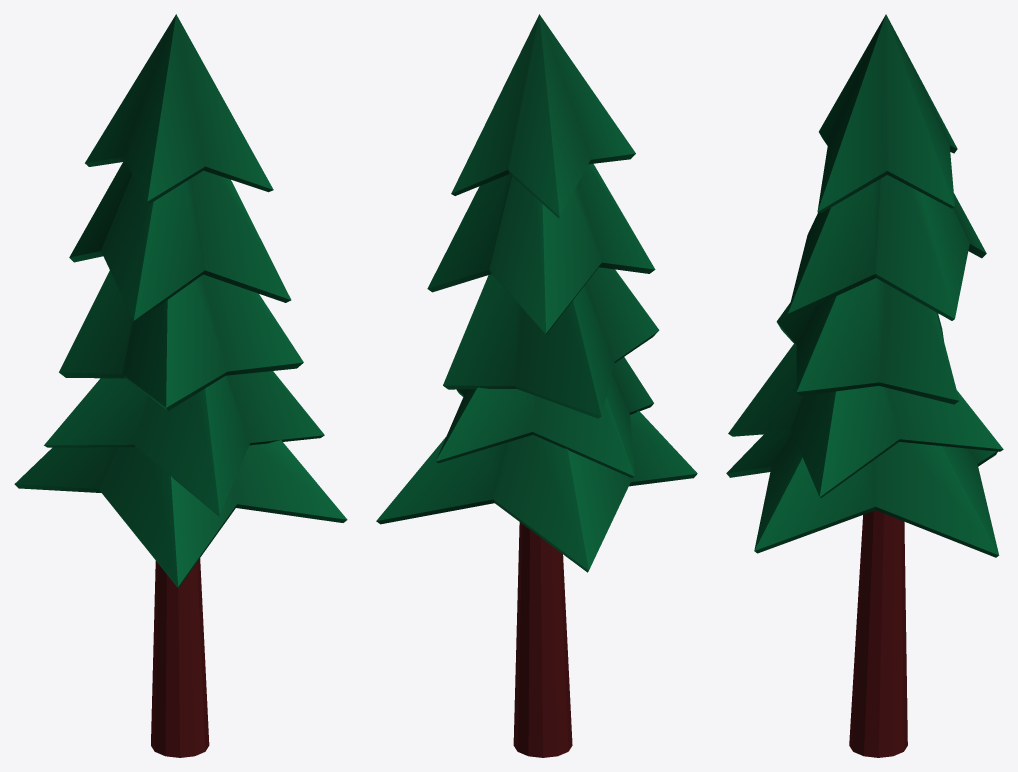
The model's file is tree_2_1.fbx.
3 views of the same model, side by side, from view 1: azimuth 30°, elevation 25°; view 2: azimuth 150°, elevation 25°; view 3: azimuth 270°, elevation 25° (orthographic).
Visible parts, largest first — view 1: tree_2_1; view 2: tree_2_1; view 3: tree_2_1.
Boxes of the visible parts, x1,y1,x2,y2 form: tree_2_1: [14, 14, 347, 757]; tree_2_1: [376, 14, 697, 757]; tree_2_1: [726, 14, 1003, 757].
Bounding box in the file's own units: 264 × 802 × 276.
